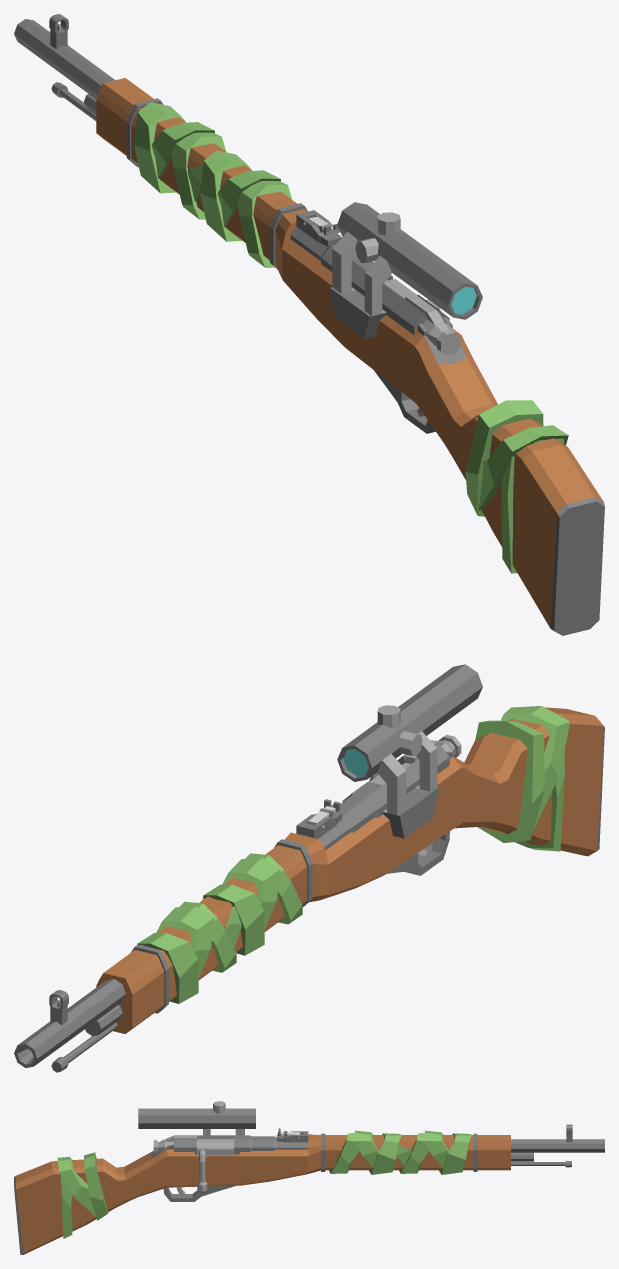
Rendered from Cartoony Mosin Nagant.fbx.
3 renders of one model, top to bottom at view 1: azimuth 30°, elevation 25°; view 2: azimuth 150°, elevation 25°; view 3: azimuth 270°, elevation 25°, orthographic. The views are drawn at different scales.
Visible parts, largest first — view 1: stock, Tape.020, Scope, Barrel, Receiver, Bolt, Triggerguard; view 2: stock, Tape.020, Scope, Barrel, Receiver, Triggerguard, Receiverpart, Bolt, FrontSight; view 3: stock, Tape.020, Scope, Barrel, Receiver, Bolt, Triggerguard, Receiverpart.
Part boxes in pixels (x1,y1,x2,y2): stock: (96, 78, 604, 635); Tape.020: (134, 102, 568, 573); Scope: (330, 202, 482, 338); Barrel: (14, 19, 115, 120); Receiver: (290, 227, 449, 334); Bolt: (384, 279, 461, 355); Triggerguard: (374, 370, 435, 433); stock: (96, 707, 604, 1033); Tape.020: (137, 706, 570, 1003); Scope: (337, 664, 482, 838); Barrel: (14, 979, 125, 1072); Receiver: (318, 743, 449, 850); Triggerguard: (387, 831, 449, 875); Receiverpart: (296, 811, 342, 838); Bolt: (369, 735, 461, 785); FrontSight: (49, 990, 68, 1024); stock: (14, 1133, 510, 1254); Tape.020: (57, 1130, 471, 1238); Scope: (138, 1101, 255, 1135); Barrel: (511, 1139, 604, 1167); Receiver: (174, 1135, 308, 1154); Bolt: (153, 1135, 234, 1192); Triggerguard: (163, 1186, 234, 1201); Receiverpart: (276, 1131, 308, 1142).
Bounding box in the file's own units: 48.23 × 170 × 617.
